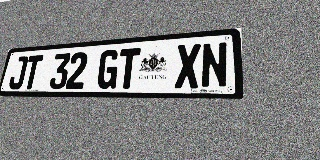2: (65, 52, 89, 89)
3: (49, 53, 71, 89)
G: (96, 49, 120, 89)
J: (8, 56, 29, 89)
N: (201, 41, 228, 88)
T: (116, 48, 141, 89), (22, 55, 43, 89)
X: (174, 43, 201, 88)
